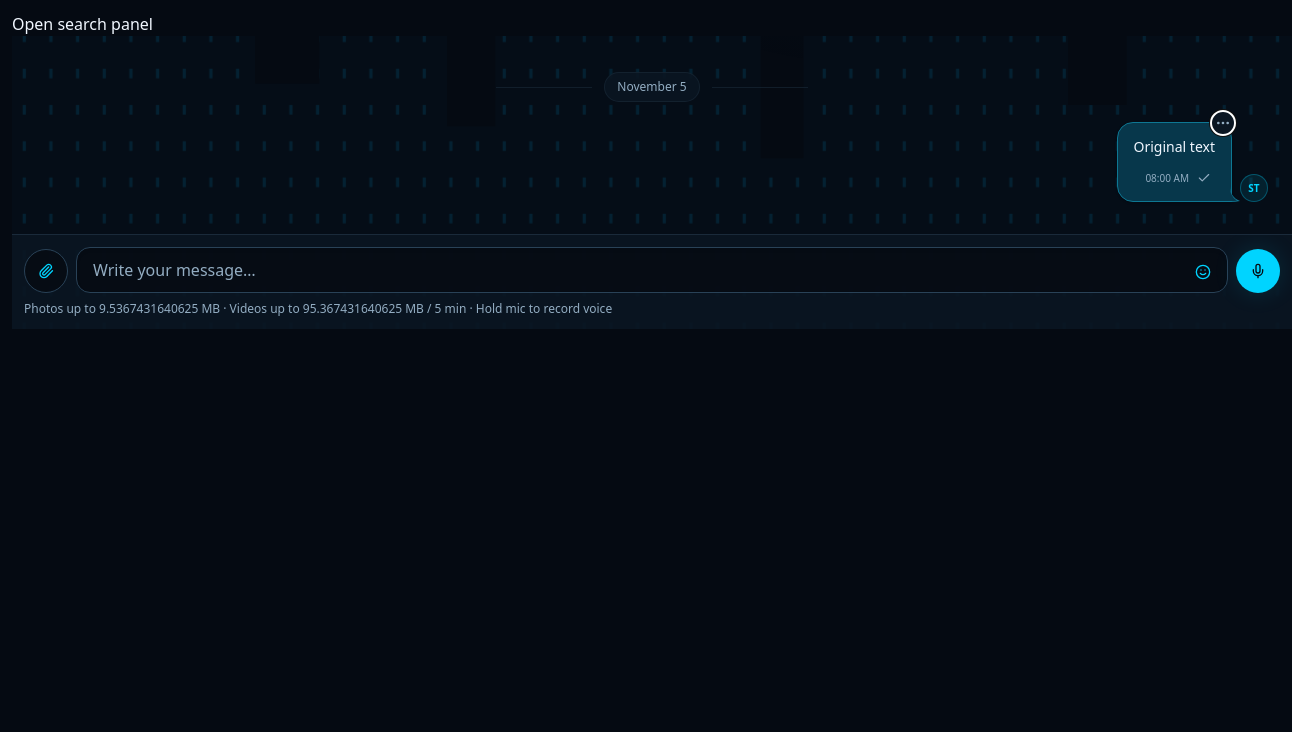
Test: chat attachments › keeps composer focus after choosing Edit from the message menu
This screenshot has width=1292, height=732.
Step 1. Click the button named "Message actions 91" → (1223,123), box [1210,110,1236,136]
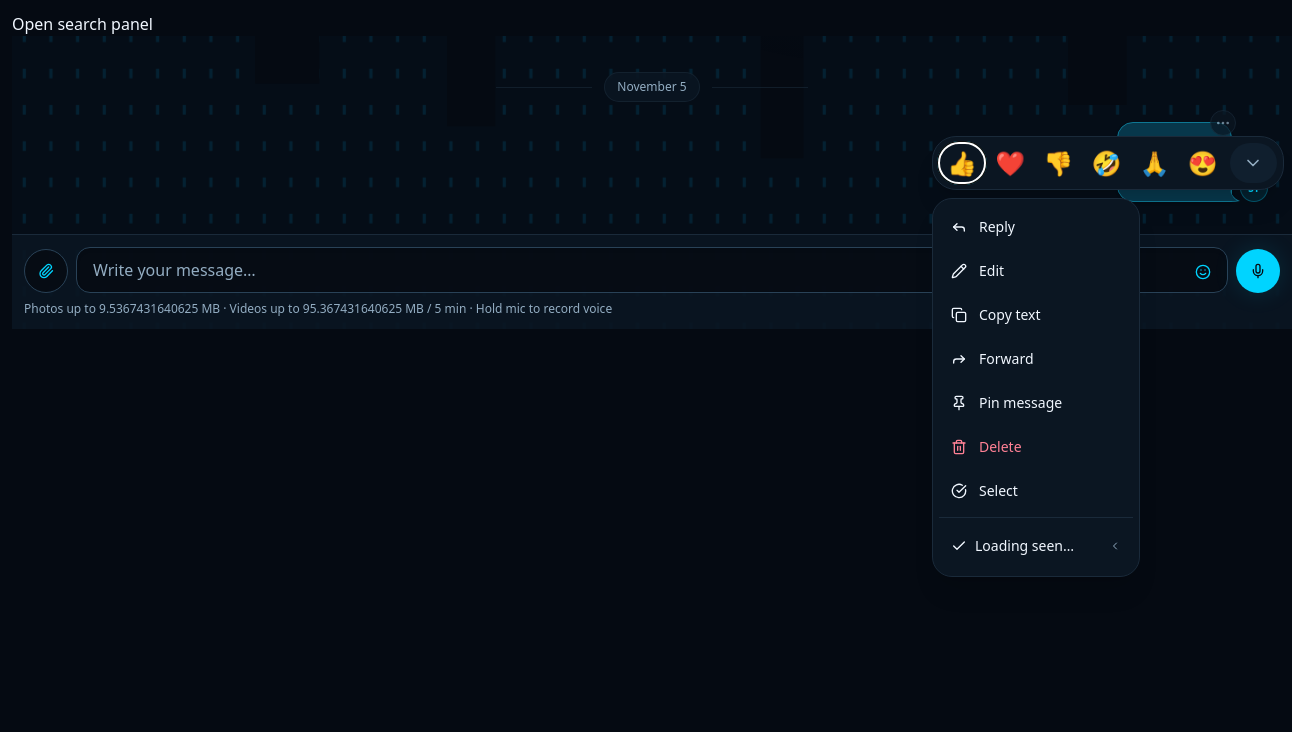
Step 2. Click the menu item "Edit" → (1036,271), box [939,249,1133,293]
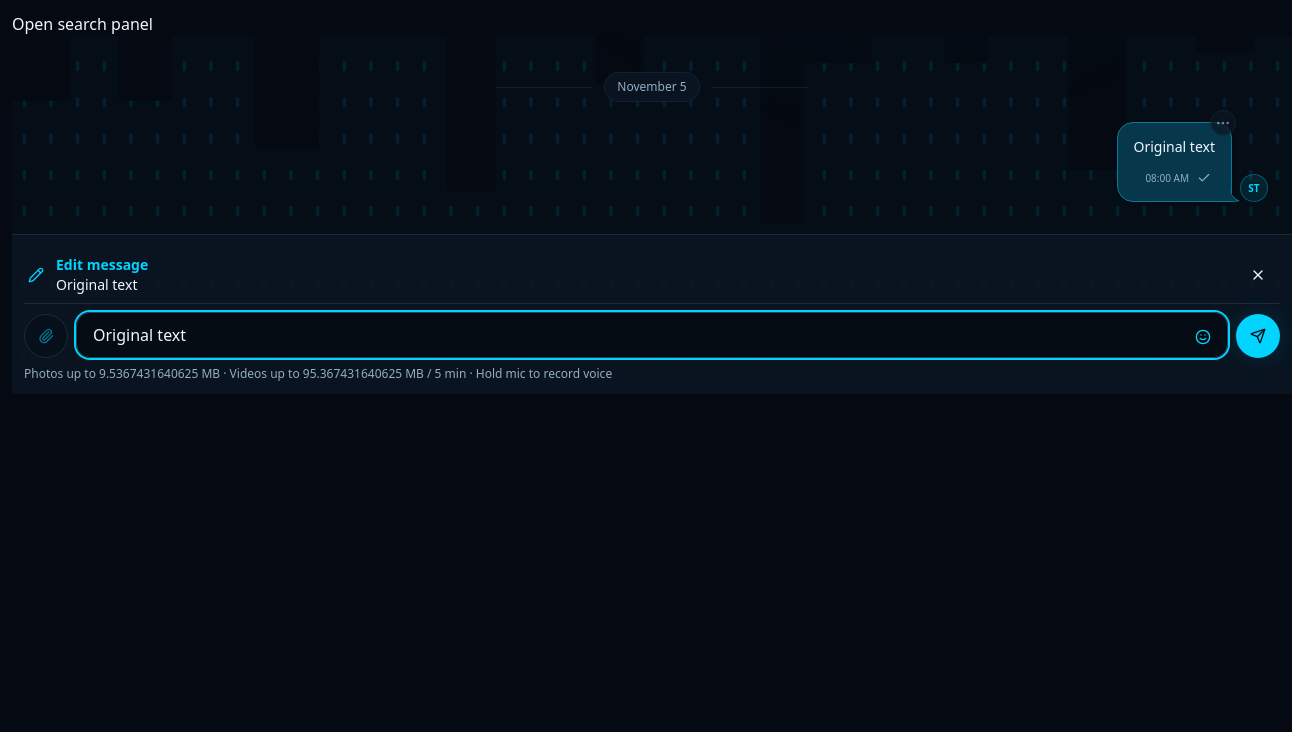
Expected: the menu is gone
